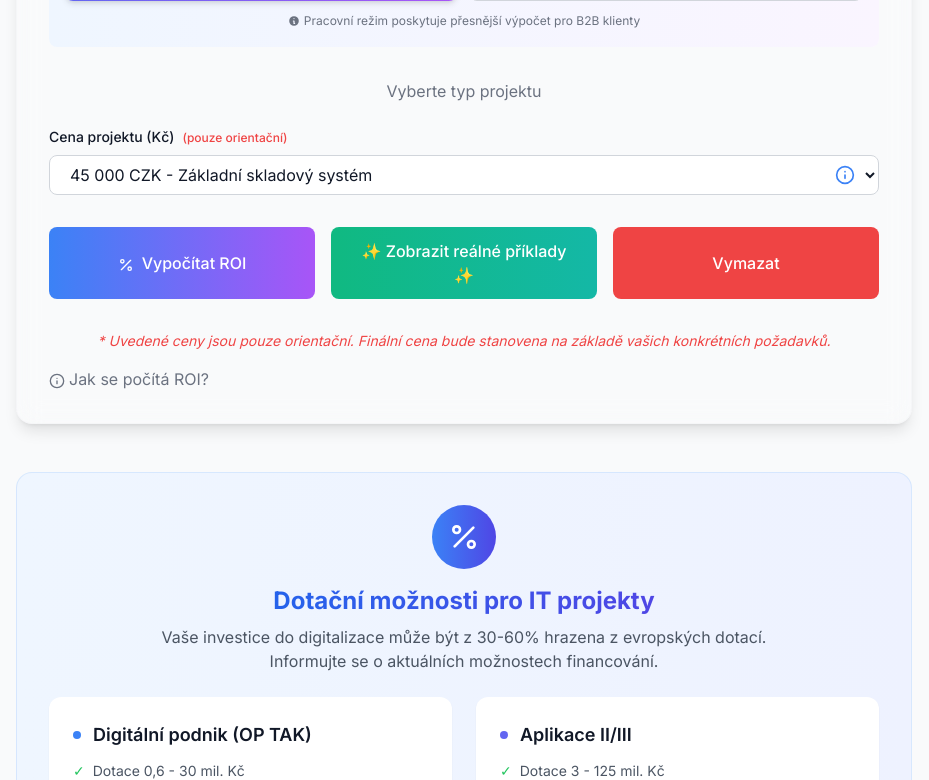
Test: ROICalculator › shows methodology info
(page scrolled)
Click info button
Click the button "Jak se počítá ROI?" at (129, 379), box left=49, top=367, right=209, bottom=391
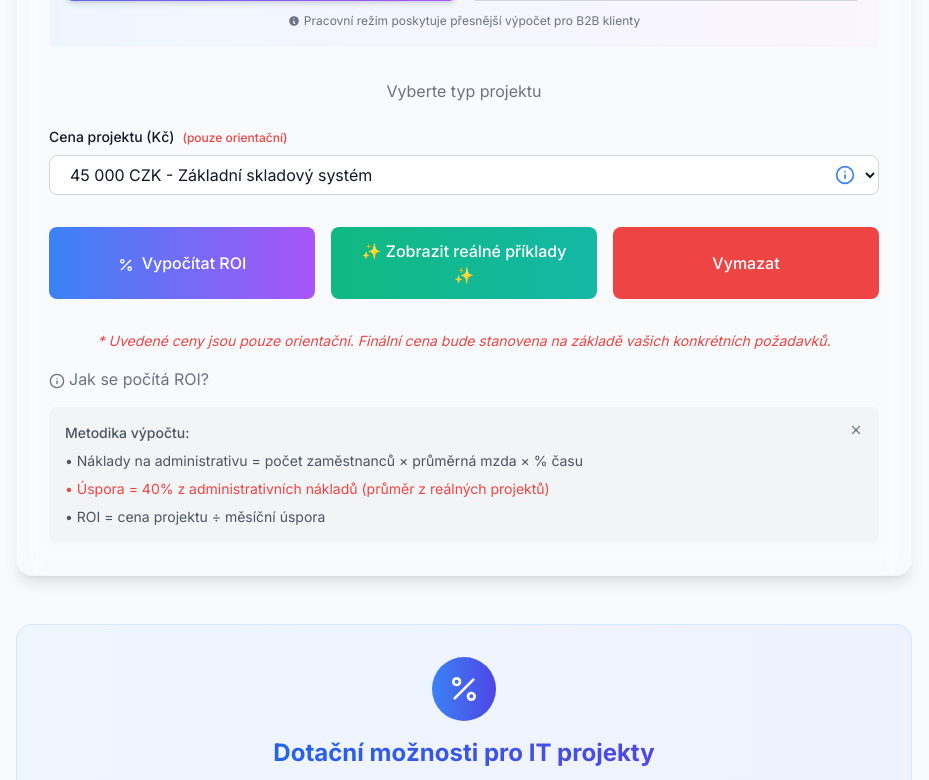
Expected: the heading "Metodika výpočtu:" is shown, left=65, top=424, right=190, bottom=441
